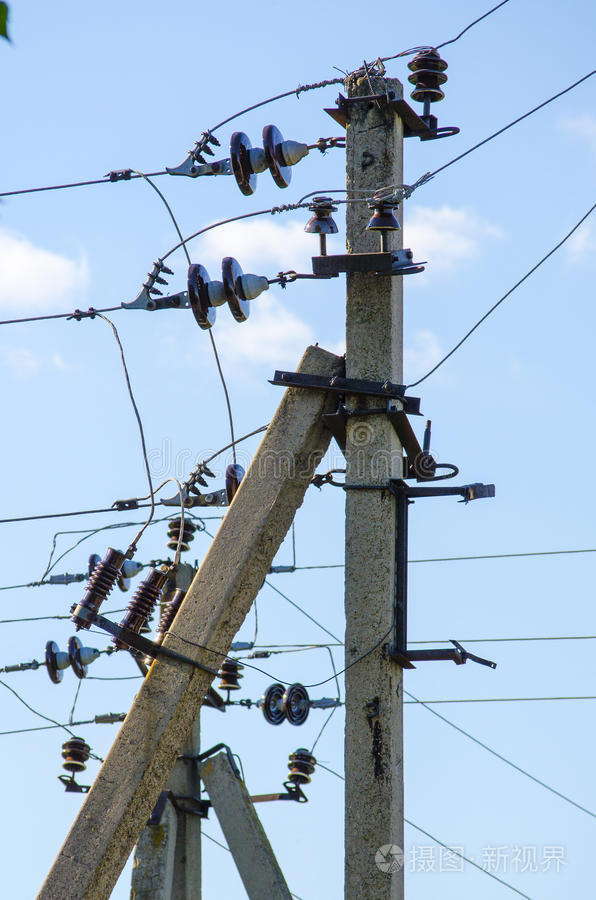insulator: (225, 125, 295, 195), (189, 257, 249, 332), (42, 631, 90, 689), (257, 681, 316, 727), (408, 56, 450, 106)
